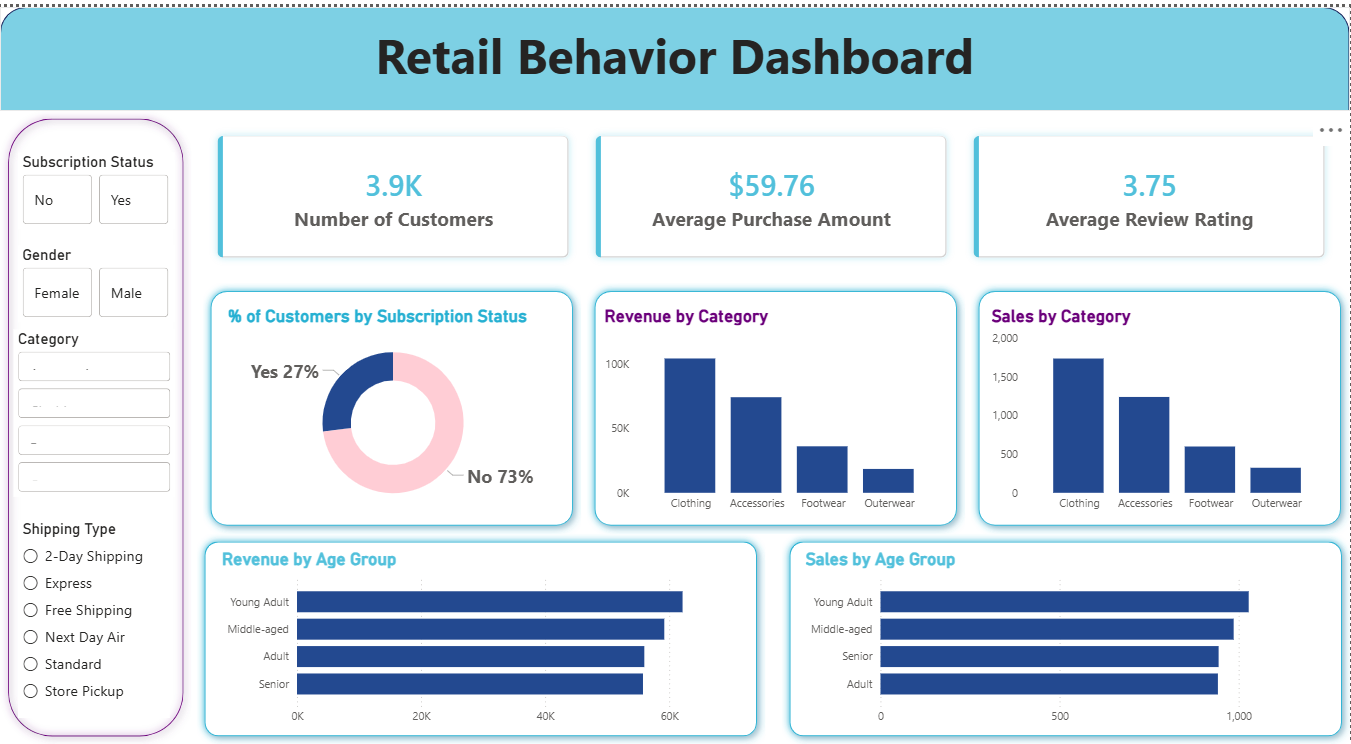

What the dashboard file says about the page in this screenshot:
{"tool":"powerbi","page":{"name":"Page 1","canvas":[1500,820],"ordinal":0},"visuals":[{"type":"cardVisual","fields":{"Data":["public customer.Number of Customers","public customer.Average Purchase Amount","public customer.Average Review Rating"]},"box":[212.9,115.3,1286.5,191.6],"z":2000},{"type":"shape","box":[218.3,585.6,631.7,234.2],"z":2500,"group":"g1"},{"type":"shape","box":[0,0,1499.4,115.3],"z":3000},{"type":"textbox","box":[0,12.4,1499.4,102.9],"z":4000},{"type":"shape","box":[225.4,307,420.5,278.6],"z":5000},{"type":"donutChart","title":"% of Customers by Subscription Status","fields":{"Category":["public customer.subscription_status"],"Y":["CountNonNull(public customer.customer_id)"]},"box":[248.4,331.8,376.2,237.8],"z":6000},{"type":"shape","box":[1078.9,307,420.5,278.6],"z":7000},{"type":"shape","box":[652.1,307,420.5,278.6],"z":8000},{"type":"clusteredColumnChart","title":"Revenue by Category","fields":{"Y":["Sum(public customer.purchase_amount)"],"Category":["public customer.category"]},"box":[667.2,331.8,385.1,237.8],"z":9000},{"type":"clusteredColumnChart","title":"Sales by Category","fields":{"Y":["CountNonNull(public customer.customer_id)"],"Category":["public customer.category"]},"box":[1096.6,331.8,385.1,237.8],"z":10000},{"type":"shape","box":[0,115.3,212.9,704.5],"z":11000},{"type":"advancedSlicerVisual","fields":{"Values":["public customer.subscription_status"]},"box":[19.5,161.5,173.9,85.2],"z":12000},{"type":"advancedSlicerVisual","fields":{"Values":["public customer.gender"]},"box":[19.5,264.4,173.9,85.2],"z":13000},{"type":"advancedSlicerVisual","fields":{"Values":["public customer.category"]},"box":[14.2,358.4,179.2,186.3],"z":14000},{"type":"listSlicer","fields":{"Values":["public customer.shipping_type"]},"box":[19.5,569.6,168.6,220],"z":15000},{"type":"shape","box":[867.7,585.6,631.7,234.2],"z":16000},{"type":"clusteredBarChart","title":"Sales by Age Group","fields":{"Y":["CountNonNull(public customer.customer_id)"],"Category":["public customer.age_group"]},"box":[890.8,601.5,585.6,204.1],"z":17000},{"type":"clusteredBarChart","title":"Revenue by Age Group","fields":{"Y":["Sum(public customer.purchase_amount)"],"Category":["public customer.age_group"]},"box":[241.4,601.6,585.6,204.1],"z":17500,"group":"g1"},{"type":"group","id":"g1","title":"Group 1","box":[218.3,585.6,631.7,234.2],"z":17501}]}

Visuals, with their boxes in screenshot pixels (x1, y1, x2, y2), scaled from the page's 1500x820 canvas onto the 1351x744 screenshot:
cardVisual - public customer.Number of Customers x public customer.Average Purchase Amount: (192,105,1350,278)
shape: (197,531,766,743)
shape: (0,0,1350,105)
textbox: (0,11,1350,105)
shape: (203,279,582,531)
"% of Customers by Subscription Status" donutChart: (224,301,563,517)
shape: (972,279,1350,531)
shape: (587,279,966,531)
"Revenue by Category" clusteredColumnChart: (601,301,948,517)
"Sales by Category" clusteredColumnChart: (988,301,1335,517)
shape: (0,105,192,743)
advancedSlicerVisual - public customer.subscription_status: (18,147,174,224)
advancedSlicerVisual - public customer.gender: (18,240,174,317)
advancedSlicerVisual - public customer.category: (13,325,174,494)
listSlicer - public customer.shipping_type: (18,517,169,716)
shape: (782,531,1350,743)
"Sales by Age Group" clusteredBarChart: (802,546,1330,731)
"Revenue by Age Group" clusteredBarChart: (217,546,745,731)
"Group 1" group: (197,531,766,743)
